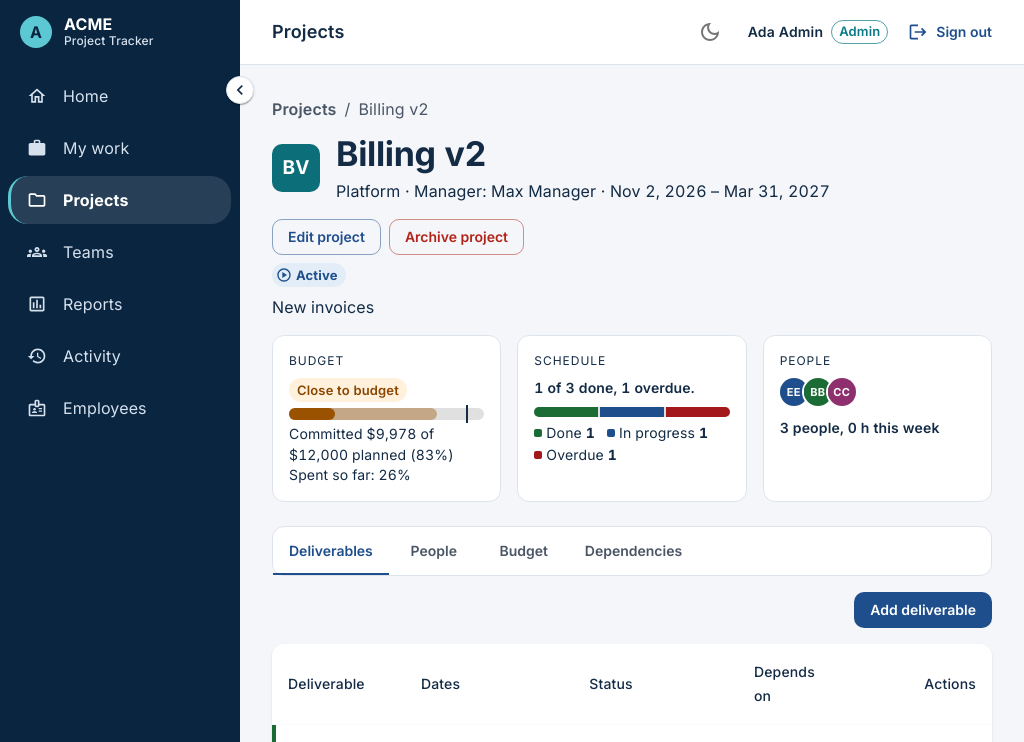
Test: Dependencies tab › a project with no deliverables says so
The width and height of the screenshot is (1024, 742).
Click the tab "Dependencies" at (633, 550), box x1=569 y1=526 x2=698 y2=574
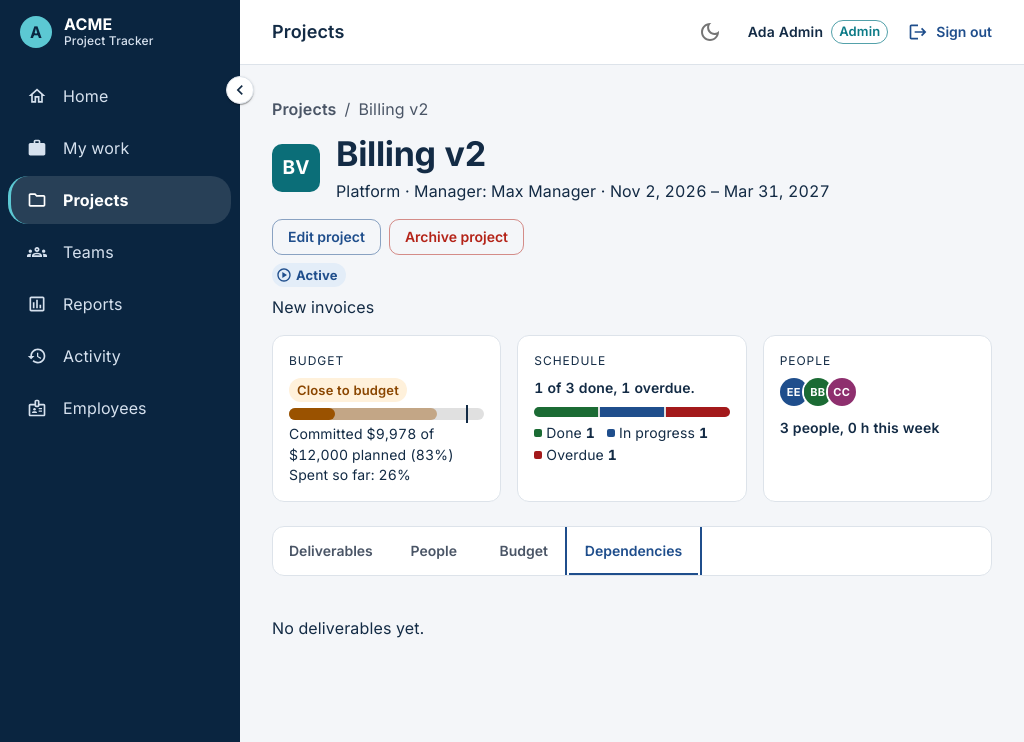
Now the text "No deliverables yet." is shown, box x1=272 y1=618 x2=424 y2=638
